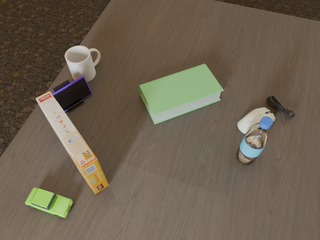book: (140, 64, 224, 124)
bottle: (236, 116, 273, 164)
box: (36, 91, 109, 194)
cup: (65, 46, 100, 82)
mouse: (238, 108, 275, 134)
phone: (52, 76, 92, 111)
toy_car: (25, 188, 73, 219)
